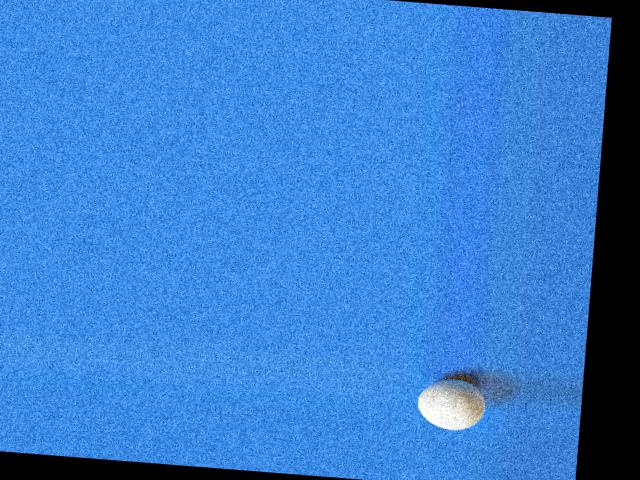egg: (415, 375, 488, 432)
